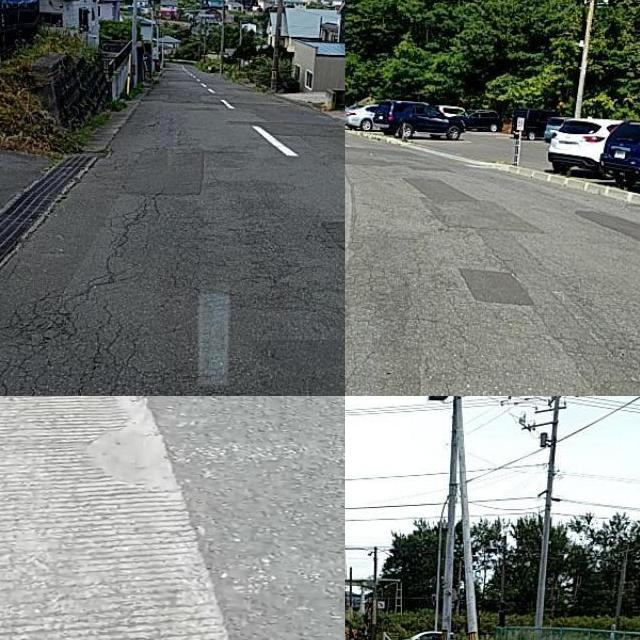Retak Buaya: (0, 292, 168, 396)
Sambungan: (0, 396, 226, 640), (125, 147, 209, 197), (462, 267, 536, 306), (579, 213, 640, 245), (408, 176, 480, 203)
